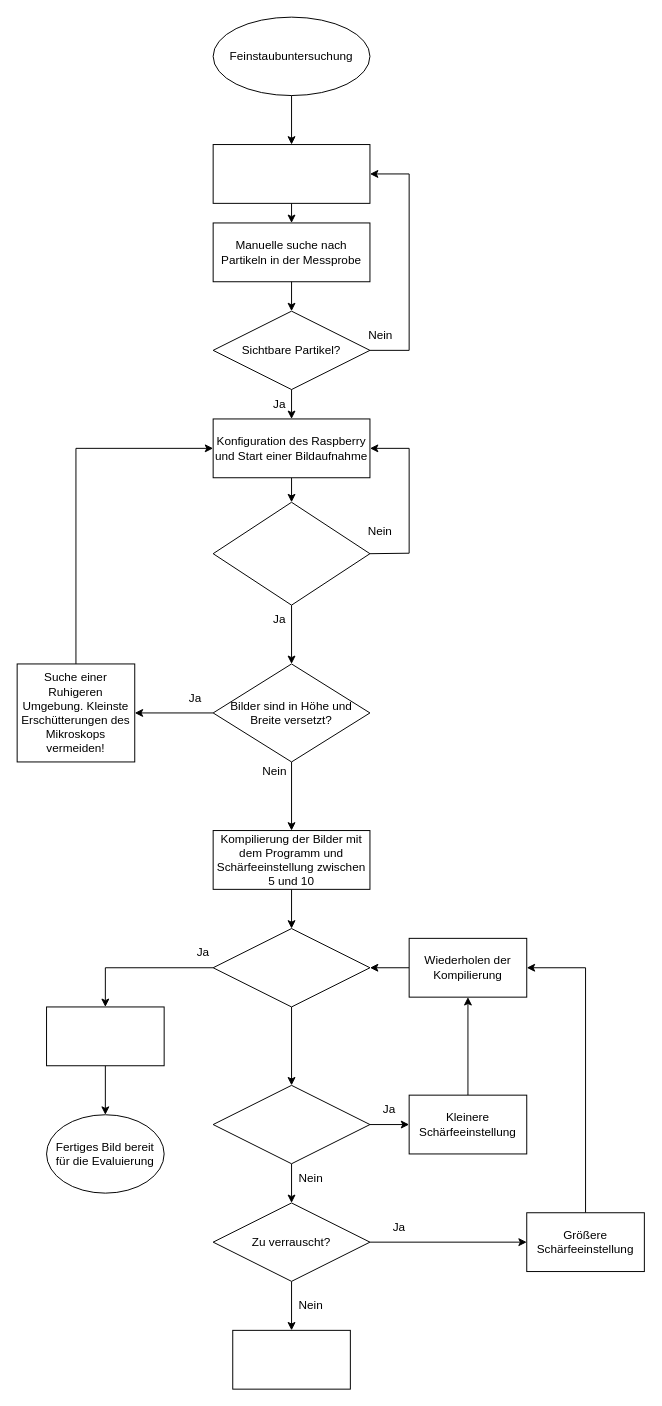
Image size: 662x1406. Some labels were removed from this diagram. Each missing label, with the box of its shape:
Feinstaubaufnahme: (212, 144, 370, 203)
Kontrolle jedes Schrittes und ggf. Neustart des Verfahrens: (232, 1329, 350, 1389)
Schärfebereiche decken alles relevante ab?: (212, 501, 370, 605)
Speichern der Bilder, am besten mit dem Schärfe und Ursprungsbild: (46, 1006, 164, 1066)
Zu verwaschen?: (212, 1084, 370, 1164)
Zufrieden mit dem Resultat?: (212, 928, 370, 1007)
